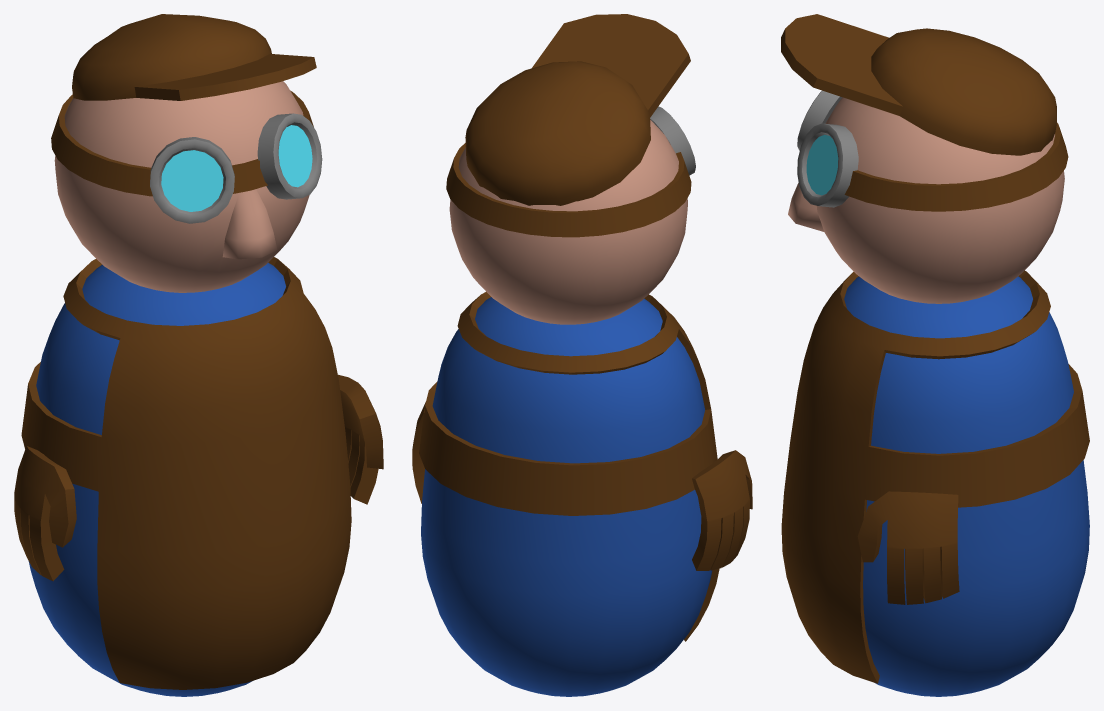
The model's file is WelderGuy.fbx.
3 views of the same model, side by side, from view 1: azimuth 30°, elevation 25°; view 2: azimuth 150°, elevation 25°; view 3: azimuth 270°, elevation 25° (orthographic). The views are drawn at different scales.
Visible parts, largest first — view 1: Bib001, Head001, Body001, Hat001, Goggles001, Hands001, Goggle Strap001; view 2: Body001, Hat001, Bib001, Head001, Goggle Strap001, Hands001, Goggles001; view 3: Body001, Bib001, Head001, Hat001, Hands001, Goggle Strap001, Goggles001.
Boxes of the visible parts, box(x1,y1,x2,y2) form: Bib001: box(21, 257, 351, 689); Head001: box(54, 81, 309, 292); Body001: box(28, 262, 285, 696); Hat001: box(72, 14, 316, 100); Goggles001: box(150, 113, 322, 223); Hands001: box(14, 374, 383, 581); Goggle Strap001: box(51, 90, 313, 196); Body001: box(421, 297, 712, 696); Hat001: box(465, 14, 690, 205); Bib001: box(419, 292, 719, 641); Head001: box(449, 120, 687, 324); Goggle Strap001: box(446, 143, 691, 237); Hands001: box(412, 402, 752, 570); Goggles001: box(650, 106, 695, 175); Body001: box(844, 276, 1089, 696); Bib001: box(781, 270, 1089, 683); Head001: box(788, 97, 1064, 303); Hat001: box(781, 14, 1056, 155); Hands001: box(857, 491, 959, 604); Goggle Strap001: box(844, 122, 1068, 211); Goggles001: box(797, 90, 858, 207).
Size of the model in its own units: 62.7 by 115 by 49.97.
